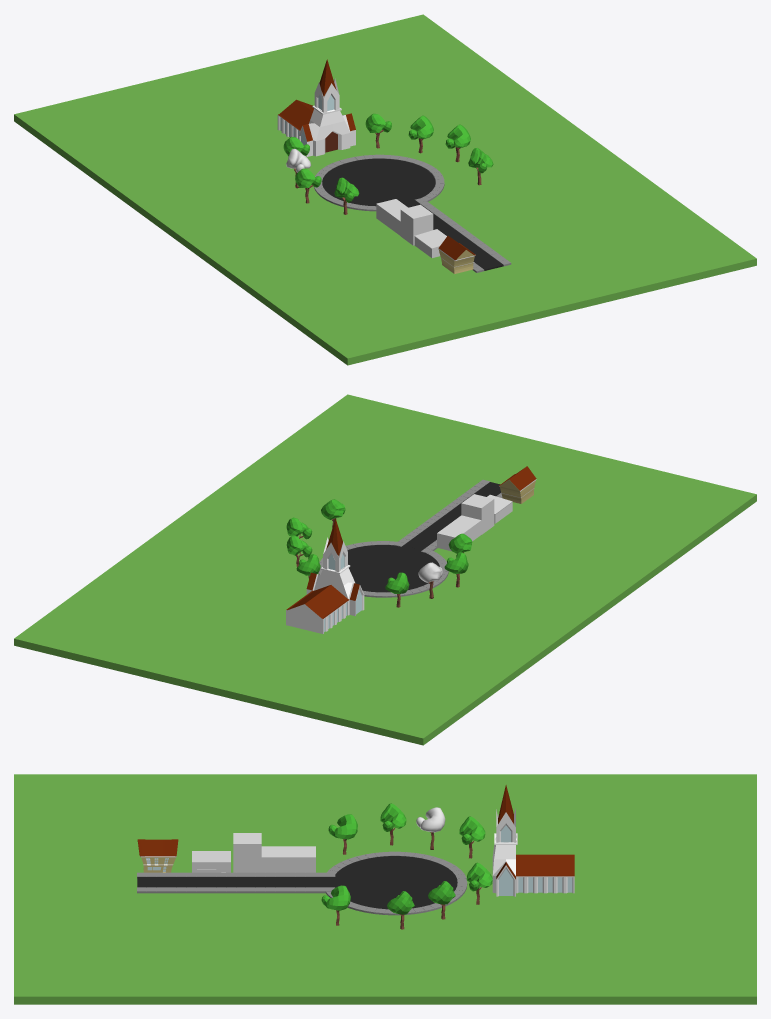
The model's file is Town.fbx.
The picture shows the model from 3 angles, top to bottom: view 1: azimuth 30°, elevation 25°; view 2: azimuth 150°, elevation 25°; view 3: azimuth 270°, elevation 25°; orthographic projection. The views are drawn at different scales.
Visible parts, largest first — view 1: Cube.004, Cylinder, Cube.005, SideWalk, Road, Cube.002, Cube, SideWalk.001, Cube.003, Cube.001; view 2: Cube.004, Cube.005, Cylinder, Road, SideWalk, Cube, Cube.003, Cube.002, SideWalk.001; view 3: Cube.004, Cylinder, Cube.005, SideWalk.001, Road, SideWalk, Cube.003, Cube, Cube.002, Cube.001, Leaves 1.001, Leaves 1.005 (+6 smaller).
Part boxes in pixels (x1,y1,x2,y2): Cube.004: (14, 14, 756, 365); Cylinder: (322, 158, 435, 206); Cube.005: (277, 59, 355, 156); SideWalk: (314, 154, 444, 211); Road: (404, 201, 503, 270); Cube.002: (400, 204, 433, 245); Cube: (438, 236, 475, 273); SideWalk.001: (415, 198, 511, 272); Cube.003: (376, 199, 407, 235); Cube.001: (414, 229, 446, 257); Cube.004: (14, 394, 756, 745); Cube.005: (286, 518, 364, 633); Cylinder: (347, 545, 439, 592); Road: (403, 482, 501, 549); SideWalk: (318, 541, 448, 597); Cube: (499, 466, 536, 503); Cube.003: (437, 515, 481, 551); Cube.002: (461, 494, 494, 534); SideWalk.001: (394, 479, 502, 553); Cube.004: (14, 774, 756, 1004); Cylinder: (331, 856, 457, 909); Cube.005: (492, 785, 574, 896); SideWalk.001: (137, 872, 335, 893); Road: (137, 877, 330, 887); SideWalk: (325, 851, 467, 915); Cube.003: (261, 846, 315, 872); Cube: (137, 839, 178, 872); Cube.002: (233, 833, 261, 872); Cube.001: (192, 851, 230, 872); Leaves 1.001: (420, 807, 445, 832); Leaves 1.005: (326, 885, 350, 910).
Size of the model in its own units: 7935 by 1780 by 11201.
